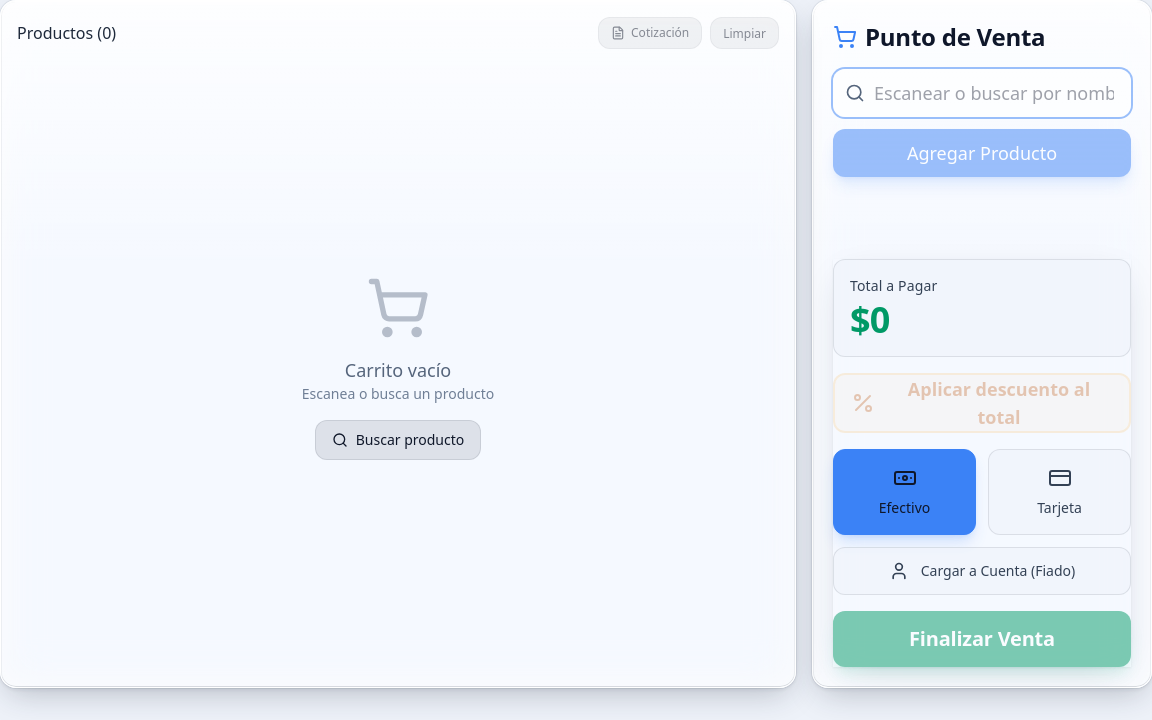
Test: Punto de venta › producto agotado abre el modal "sin stock"
In the dropdown with placeholder "Escanear o buscar por nombre...": (982, 93) [833,69,1131,117], type "AGOT"
Then press Enter
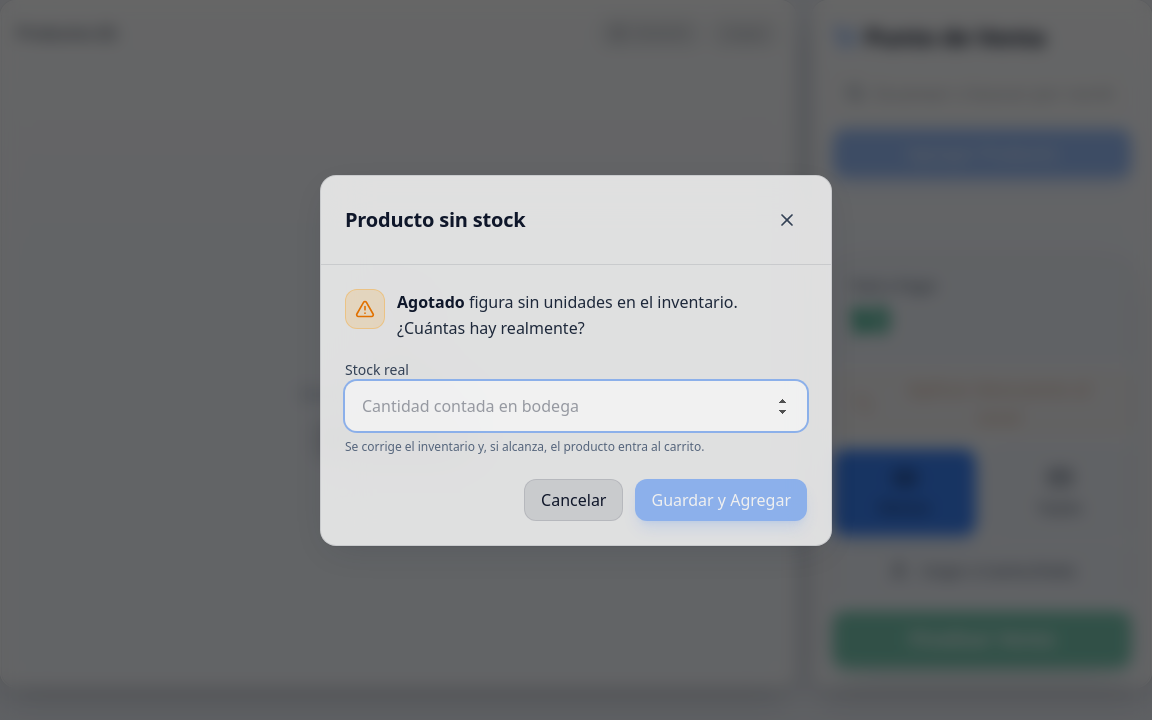
Now the dialog "Producto sin stock" is shown, box [320,174,832,546]
